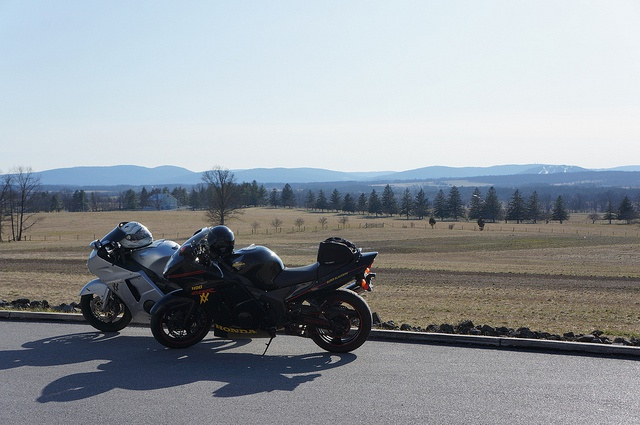non-vehicle: (150, 224, 378, 357), (78, 220, 182, 332)
